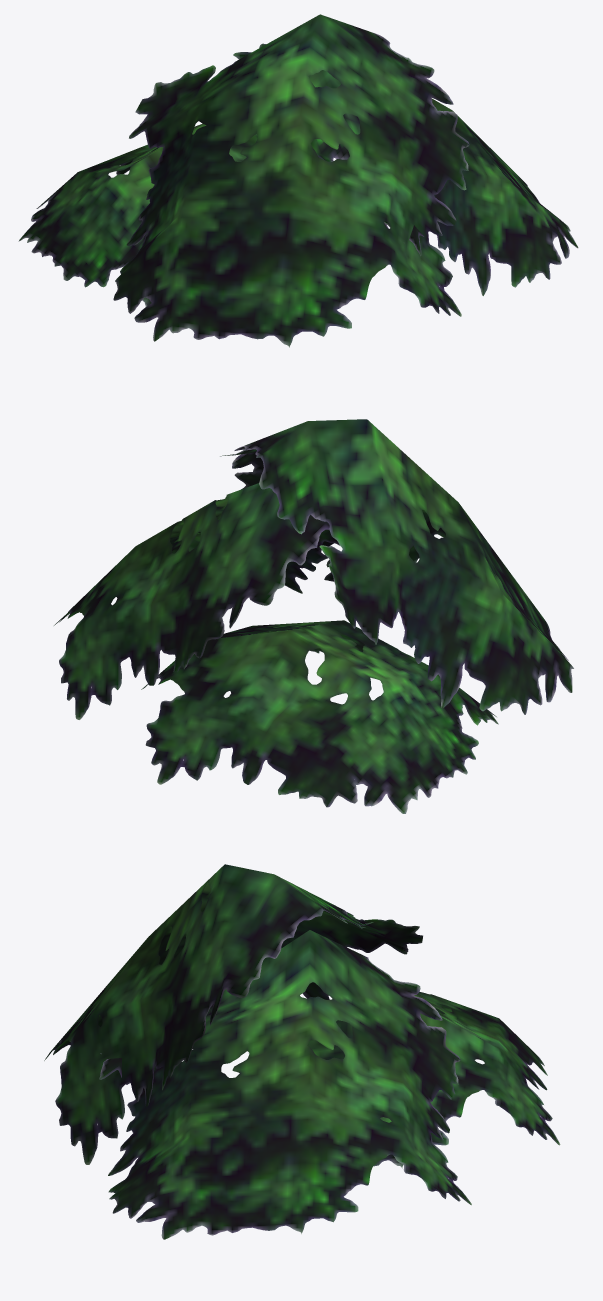
The model's file is bush_8.fbx.
The picture shows the model from 3 angles, top to bottom: view 1: azimuth 30°, elevation 25°; view 2: azimuth 150°, elevation 25°; view 3: azimuth 270°, elevation 25°; orthographic projection. The views are drawn at different scales.
Parts seen in each view (by area): view 1: bush_8; view 2: bush_8; view 3: bush_8.
Part boxes in pixels (x1,y1,x2,y2): bush_8: [18, 14, 578, 347]; bush_8: [54, 419, 573, 813]; bush_8: [44, 864, 560, 1239].
Size of the model in its own units: 1.69 by 0.9381 by 1.66.
